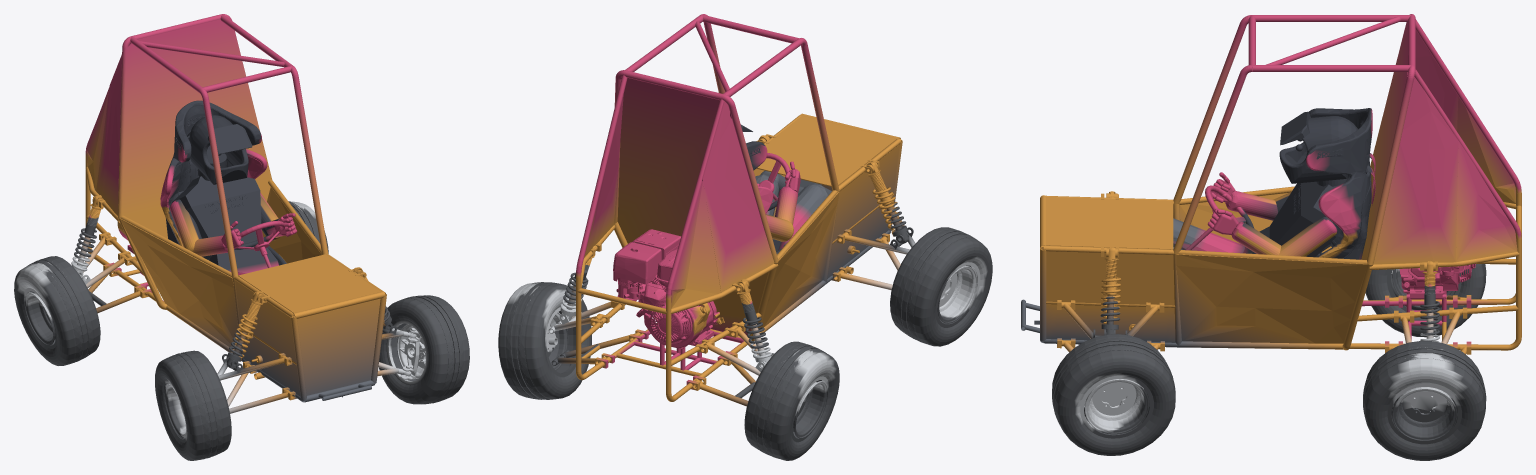
The picture shows the model from 3 angles, left to right: view 1: azimuth 30°, elevation 25°; view 2: azimuth 150°, elevation 25°; view 3: azimuth 270°, elevation 25°; orthographic projection. The views are drawn at different scales.
Visible parts, largest first — view 1: test_solid.stl; view 2: test_solid.stl; view 3: test_solid.stl.
Part boxes in pixels (x1,y1,x2,y2): test_solid.stl: (14,14,469,460); test_solid.stl: (498,14,992,460); test_solid.stl: (1021,14,1521,460).
Bounding box in the file's own units: 2.6 × 2.73 × 3.5.
